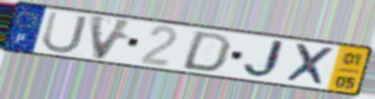2: (137, 25, 181, 69)
D: (178, 30, 235, 74)
J: (241, 39, 291, 80)
U: (39, 10, 90, 56)
V: (88, 13, 136, 62)
X: (283, 42, 337, 89)
